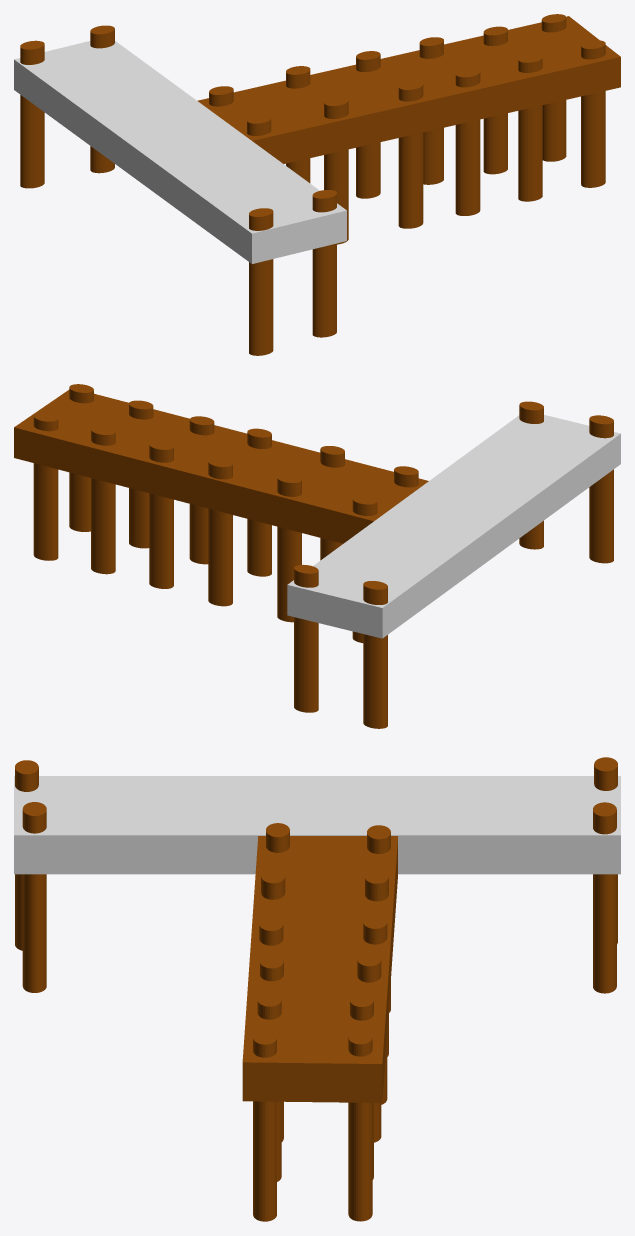
File: pelabuhan.fbx
The picture shows the model from 3 angles, top to bottom: view 1: azimuth 30°, elevation 25°; view 2: azimuth 150°, elevation 25°; view 3: azimuth 270°, elevation 25°; orthographic projection. The views are drawn at different scales.
Parts seen in each view (by area): view 1: Cube, Cube.004, Cylinder.009, Cylinder.011, Cylinder, Cylinder.001, Cylinder.013, Cylinder.012, Cylinder.003, Cylinder.014, Cylinder.015, Cylinder.007 (+6 smaller); view 2: Cube, Cube.004, Cylinder.015, Cylinder.003, Cylinder.007, Cylinder.002, Cylinder.010, Cylinder.014, Cylinder, Cylinder.006, Cylinder.009, Cylinder.013 (+6 smaller); view 3: Cube, Cube.004, Cylinder.001, Cylinder.002, Cylinder.015, Cylinder.013, Cylinder, Cylinder.012, Cylinder.010, Cylinder.007, Cylinder.003, Cylinder.006 (+6 smaller).
Boxes of the visible parts, x1,y1,x2,y2 form: Cube: [14, 41, 346, 263]; Cube.004: [197, 16, 620, 163]; Cylinder.009: [398, 81, 423, 228]; Cylinder.011: [455, 68, 480, 215]; Cylinder: [249, 208, 273, 355]; Cylinder.001: [312, 190, 336, 337]; Cylinder.013: [581, 40, 605, 187]; Cylinder.012: [518, 54, 542, 201]; Cylinder.003: [20, 40, 44, 188]; Cylinder.014: [483, 26, 507, 174]; Cylinder.015: [541, 14, 566, 161]; Cylinder.007: [356, 51, 380, 198]; Cube: [287, 415, 620, 638]; Cube.004: [14, 390, 428, 543]; Cylinder.015: [33, 413, 58, 560]; Cylinder.003: [363, 581, 387, 728]; Cylinder.007: [208, 458, 232, 606]; Cylinder.002: [294, 564, 318, 712]; Cylinder.010: [149, 441, 173, 588]; Cylinder.014: [91, 426, 115, 574]; Cylinder: [589, 415, 613, 563]; Cylinder.006: [277, 474, 301, 622]; Cylinder.009: [247, 428, 271, 576]; Cylinder.013: [69, 384, 93, 531]; Cube: [14, 776, 620, 874]; Cube.004: [242, 836, 397, 1102]; Cylinder.001: [22, 802, 46, 992]; Cylinder.002: [593, 802, 616, 993]; Cylinder.015: [348, 1030, 372, 1221]; Cylinder.013: [253, 1030, 276, 1221]; Cylinder: [15, 760, 38, 950]; Cylinder.012: [257, 992, 281, 1181]; Cylinder.010: [357, 952, 381, 1142]; Cylinder.007: [363, 915, 387, 1104]; Cylinder.003: [594, 757, 617, 943]; Cylinder.006: [365, 869, 388, 1056].
Bounding box in the file's own units: 2242 × 675 × 2004.
